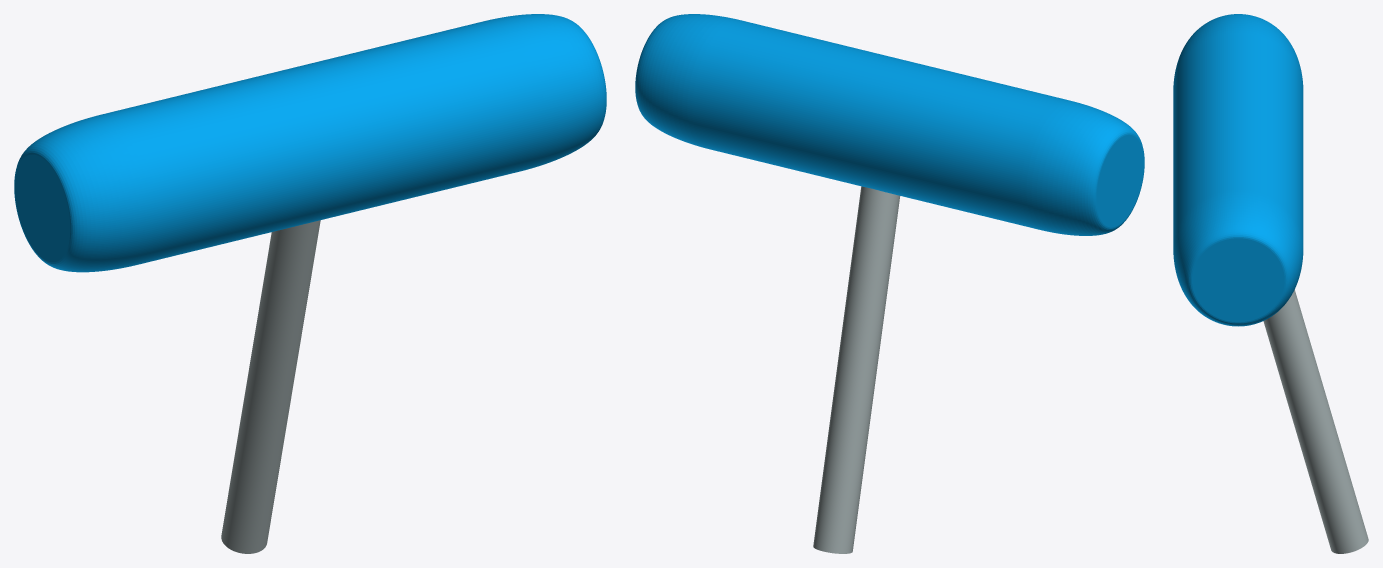
Rendered from Lever_Blue2.glb.
3 views of the same model, side by side, from view 1: azimuth 30°, elevation 25°; view 2: azimuth 150°, elevation 25°; view 3: azimuth 270°, elevation 25° (orthographic). The views are drawn at different scales.
Visible parts, largest first — view 1: Lever Top, Lever Body; view 2: Lever Top, Lever Body; view 3: Lever Top, Lever Body.
Part boxes in pixels (<box>): Lever Top: <box>14,14,606,272</box>; Lever Body: <box>221,220,320,553</box>; Lever Top: <box>635,14,1144,235</box>; Lever Body: <box>813,186,900,553</box>; Lever Top: <box>1173,14,1303,326</box>; Lever Body: <box>1263,290,1368,553</box>.
Size of the model in its own units: 0.2 by 0.1856 by 0.0751.
